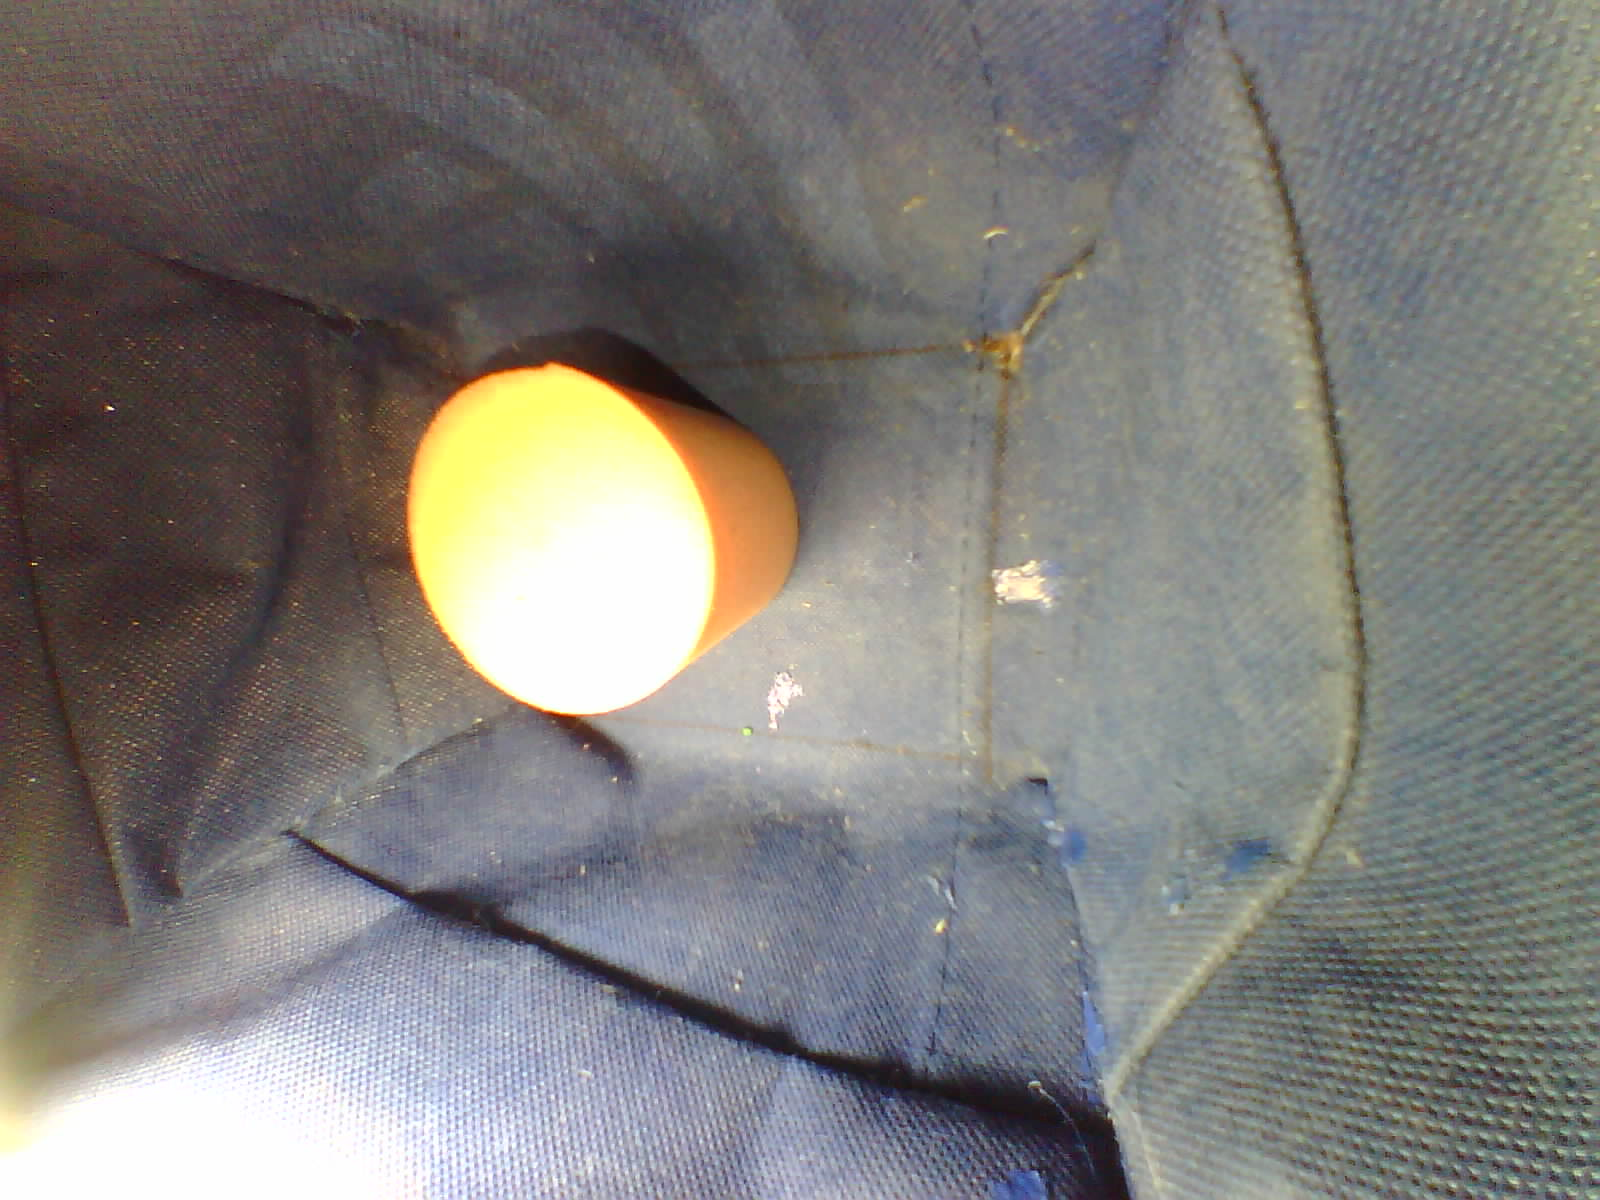cylinder-soft: (375, 343, 823, 736)
